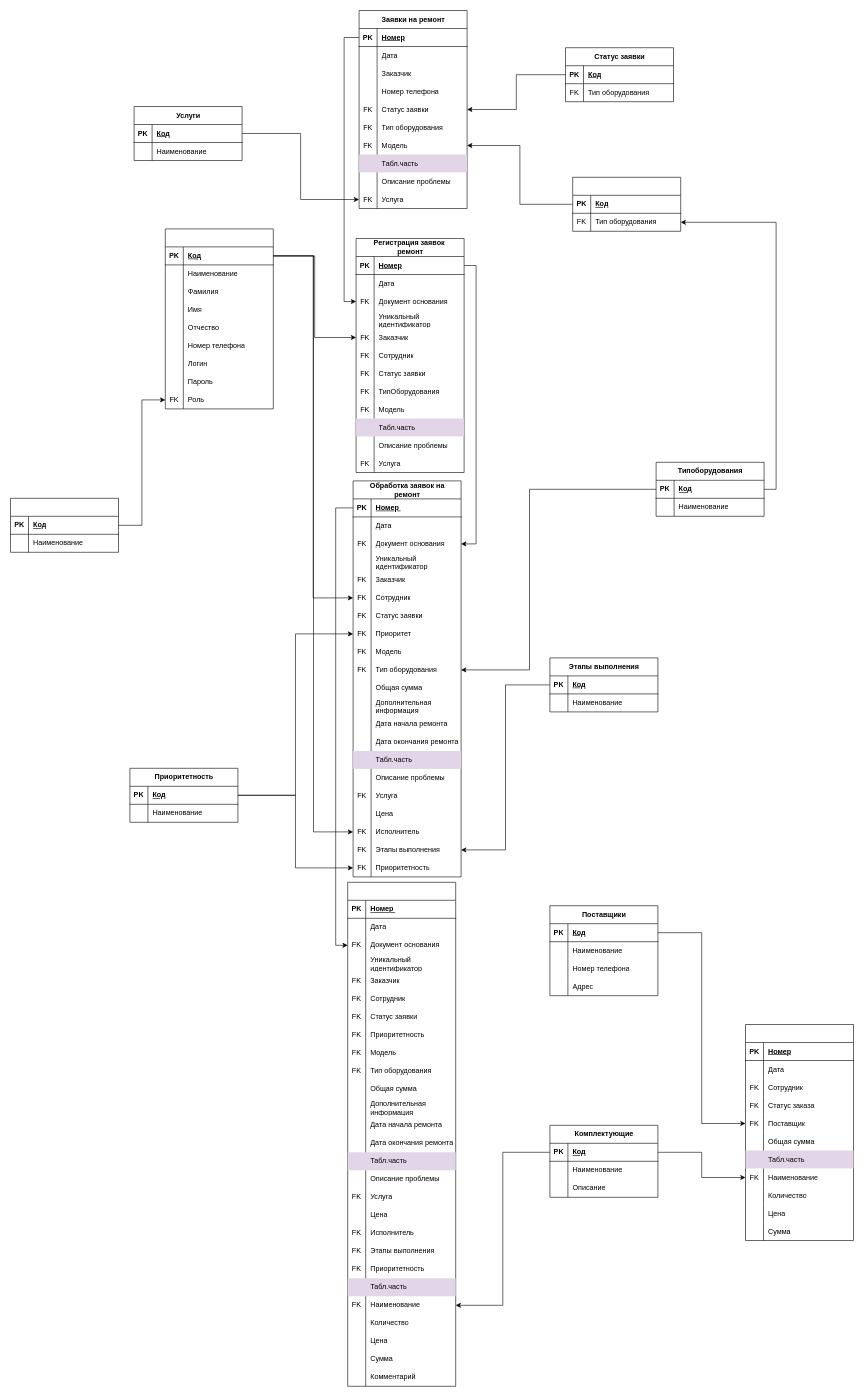
The diagram is 864 pixels wide and 1397 high, and some of its shapes have lost their labels. The box of each missing label's shape, as (x1, y1, x2, y2) in pixels:
Заказы комплектующих: (745, 1024, 854, 1240)
Исполнение заявок на ремонт: (347, 882, 456, 1386)
Модели: (572, 177, 681, 231)
Пользователи: (165, 228, 273, 409)
Роли: (10, 498, 118, 552)
